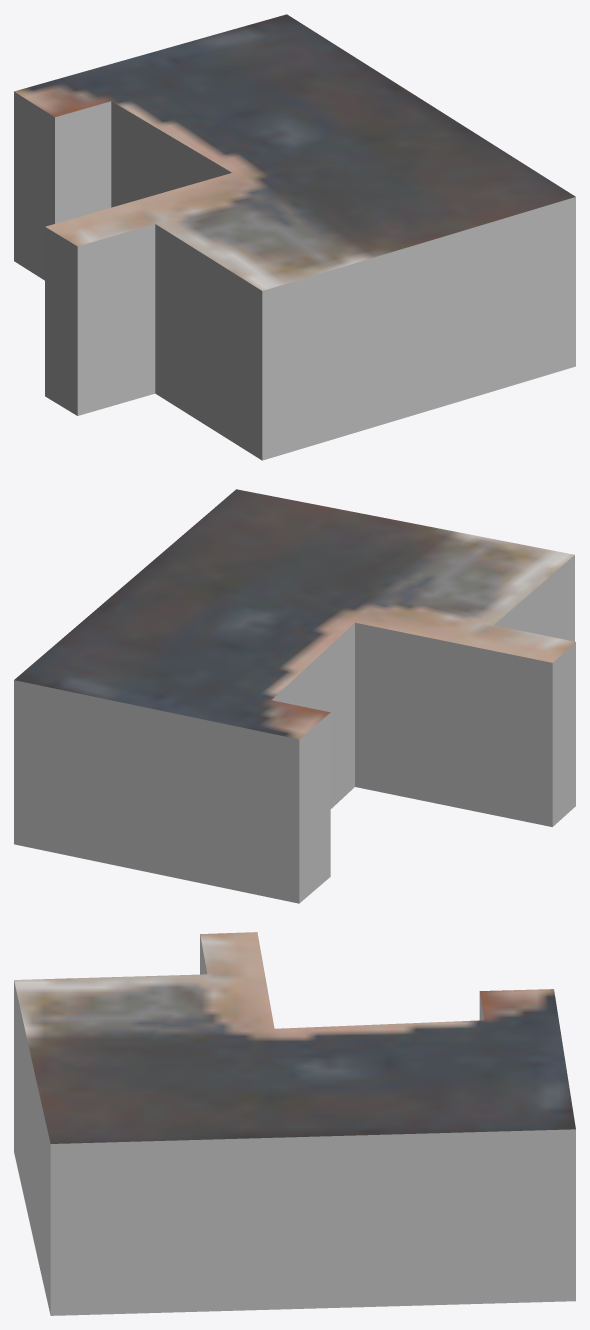
The model's file is DEBW_0010007Tx97.gltf.
The picture shows the model from 3 angles, top to bottom: view 1: azimuth 30°, elevation 25°; view 2: azimuth 150°, elevation 25°; view 3: azimuth 270°, elevation 25°; orthographic projection. The views are drawn at different scales.
Parts seen in each view (by area): view 1: Z_UP; view 2: Z_UP; view 3: Z_UP.
Boxes of the visible parts, x1,y1,x2,y2 form: Z_UP: [14, 14, 575, 460]; Z_UP: [14, 489, 575, 903]; Z_UP: [14, 932, 575, 1315].
Size of the model in its own units: 8.22 by 3.11 by 9.21.
Materials: 2 (1 with a texture image).
